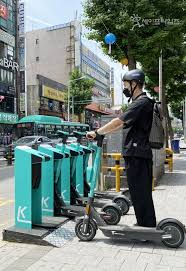kick_body: (104, 223, 161, 244)
kick_wheel: (159, 218, 185, 248), (76, 218, 98, 241), (101, 205, 120, 224)
